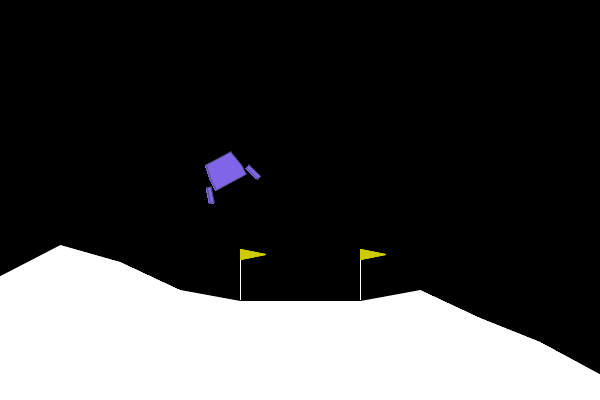lander: (191, 143, 262, 207)
